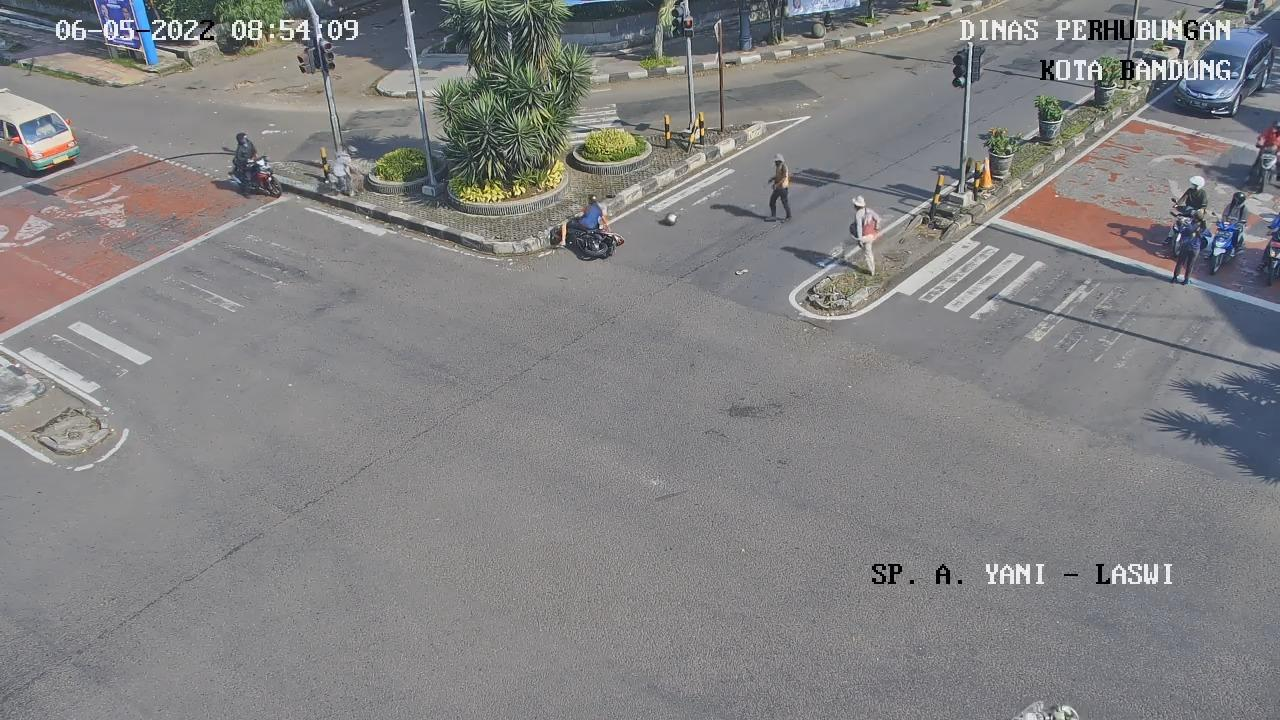accident: (556, 193, 610, 250)
